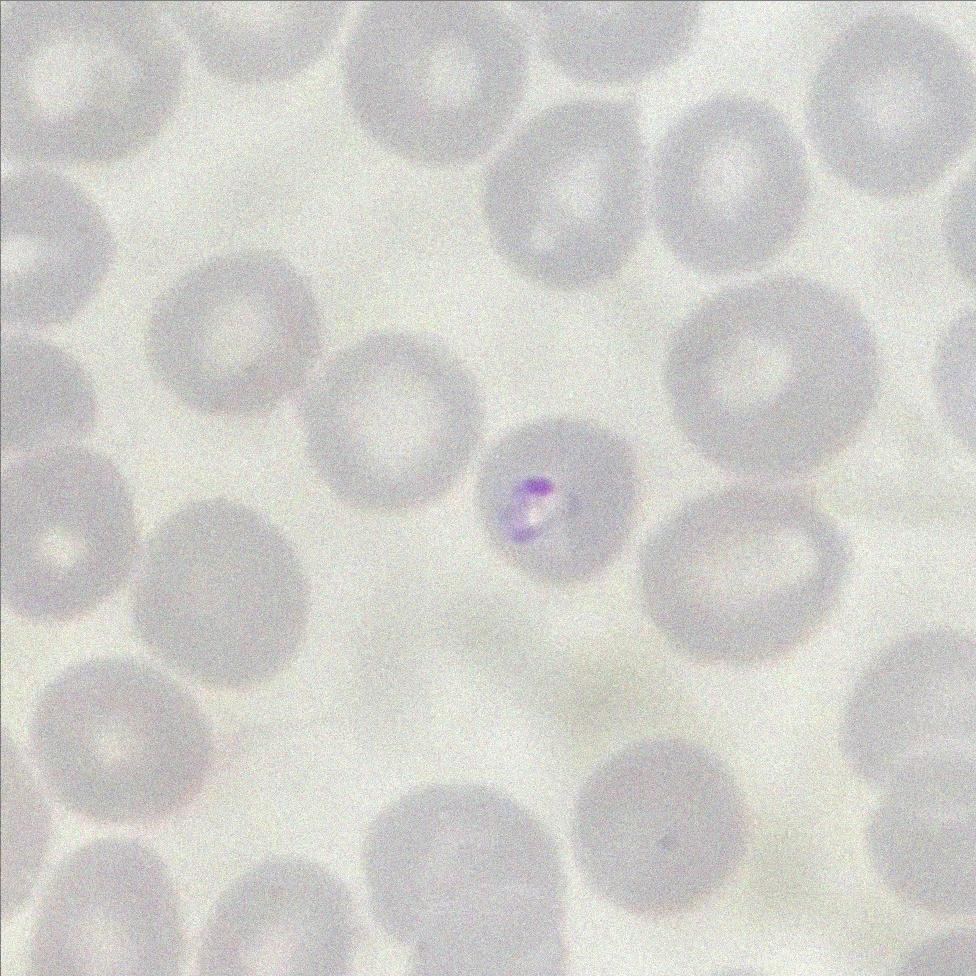Infected: (480, 417, 642, 588)
Uninfected: (663, 276, 879, 475), (637, 483, 851, 663), (363, 783, 567, 970), (130, 497, 311, 691), (484, 99, 658, 286), (300, 334, 481, 510), (572, 735, 747, 917), (29, 651, 213, 824), (650, 93, 813, 271), (809, 13, 969, 194), (346, 4, 529, 161), (150, 251, 321, 418), (10, 7, 179, 161), (6, 446, 141, 623), (29, 835, 192, 972), (843, 626, 976, 788), (197, 853, 362, 971), (5, 166, 123, 322), (863, 774, 975, 913), (182, 1, 345, 90), (528, 1, 704, 82), (5, 334, 115, 459)
